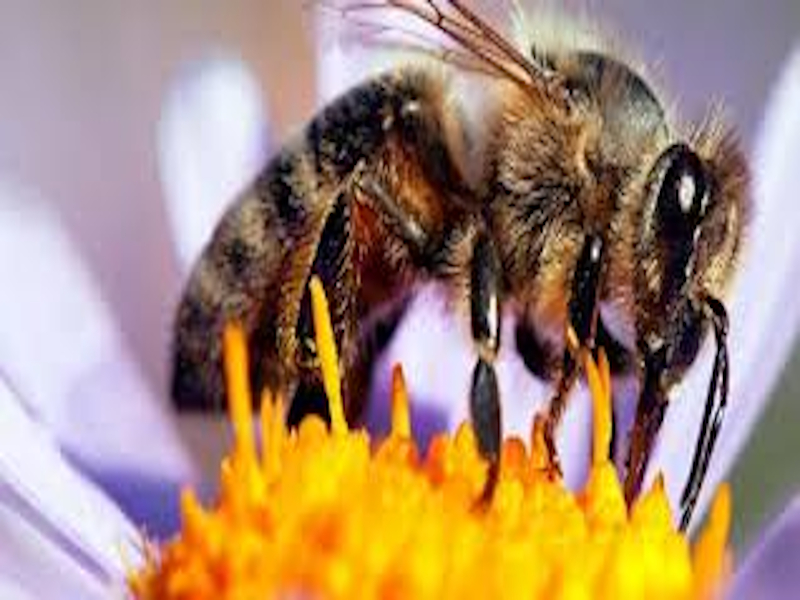abeja: (140, 9, 800, 483)
